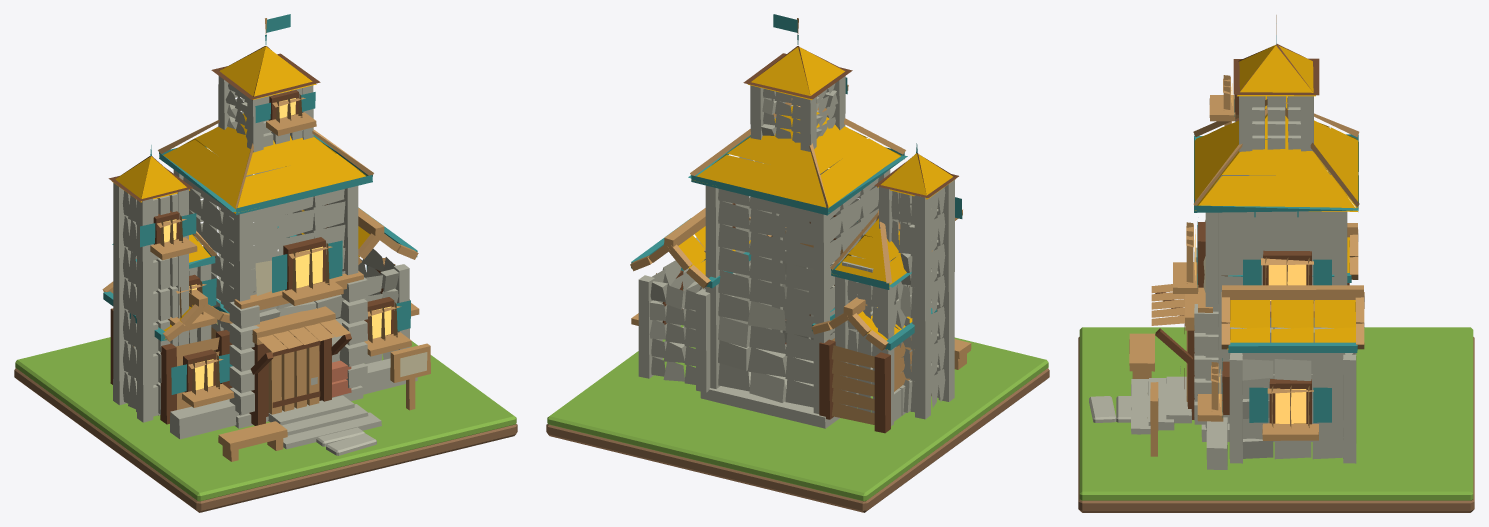
The model's file is town_hall_l07_active_LOD2.glb.
The picture shows the model from 3 angles, left to right: view 1: azimuth 30°, elevation 25°; view 2: azimuth 150°, elevation 25°; view 3: azimuth 270°, elevation 25°; orthographic projection. The views are drawn at different scales.
Visible parts, largest first — view 1: town_hall_l07_active_foundation.001, town_hall_l07_active_grass_tile.001, town_hall_l07_active_earth_tile.001, town_hall_l07_active_path_stone.005; view 2: town_hall_l07_active_foundation.001, town_hall_l07_active_grass_tile.001, town_hall_l07_active_earth_tile.001; view 3: town_hall_l07_active_foundation.001, town_hall_l07_active_grass_tile.001, town_hall_l07_active_earth_tile.001, town_hall_l07_active_path_stone.005.
Boxes of the visible parts, x1,y1,x2,y2 form: town_hall_l07_active_foundation.001: (102, 14, 430, 461); town_hall_l07_active_grass_tile.001: (15, 322, 516, 501); town_hall_l07_active_earth_tile.001: (14, 368, 517, 512); town_hall_l07_active_path_stone.005: (326, 433, 376, 455); town_hall_l07_active_foundation.001: (630, 14, 971, 433); town_hall_l07_active_grass_tile.001: (547, 325, 1048, 501); town_hall_l07_active_earth_tile.001: (546, 368, 1049, 512); town_hall_l07_active_foundation.001: (1129, 15, 1364, 469); town_hall_l07_active_grass_tile.001: (1079, 327, 1473, 500); town_hall_l07_active_earth_tile.001: (1078, 337, 1474, 512); town_hall_l07_active_path_stone.005: (1089, 396, 1116, 422).
Size of the model in its own units: 3.6 by 4.18 by 3.6.
